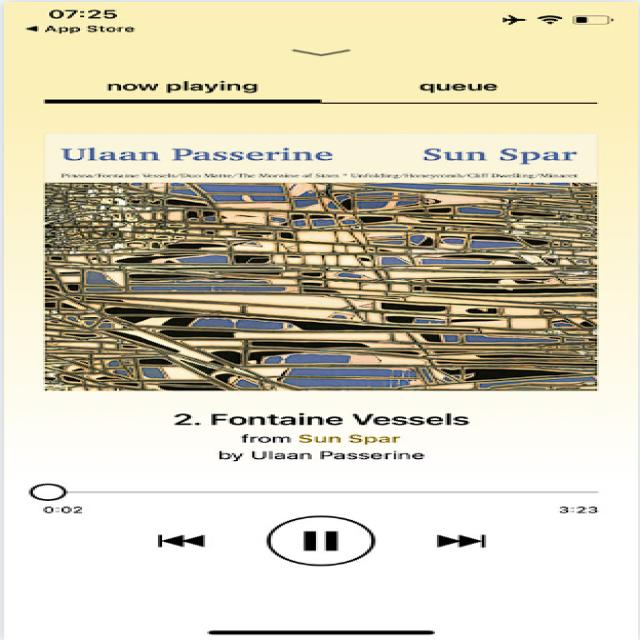icon button: (256, 506, 392, 576), (126, 521, 228, 564), (414, 524, 516, 560)
image: (27, 125, 617, 404)
progress bar: (12, 477, 628, 520)
text: (156, 406, 500, 467)
